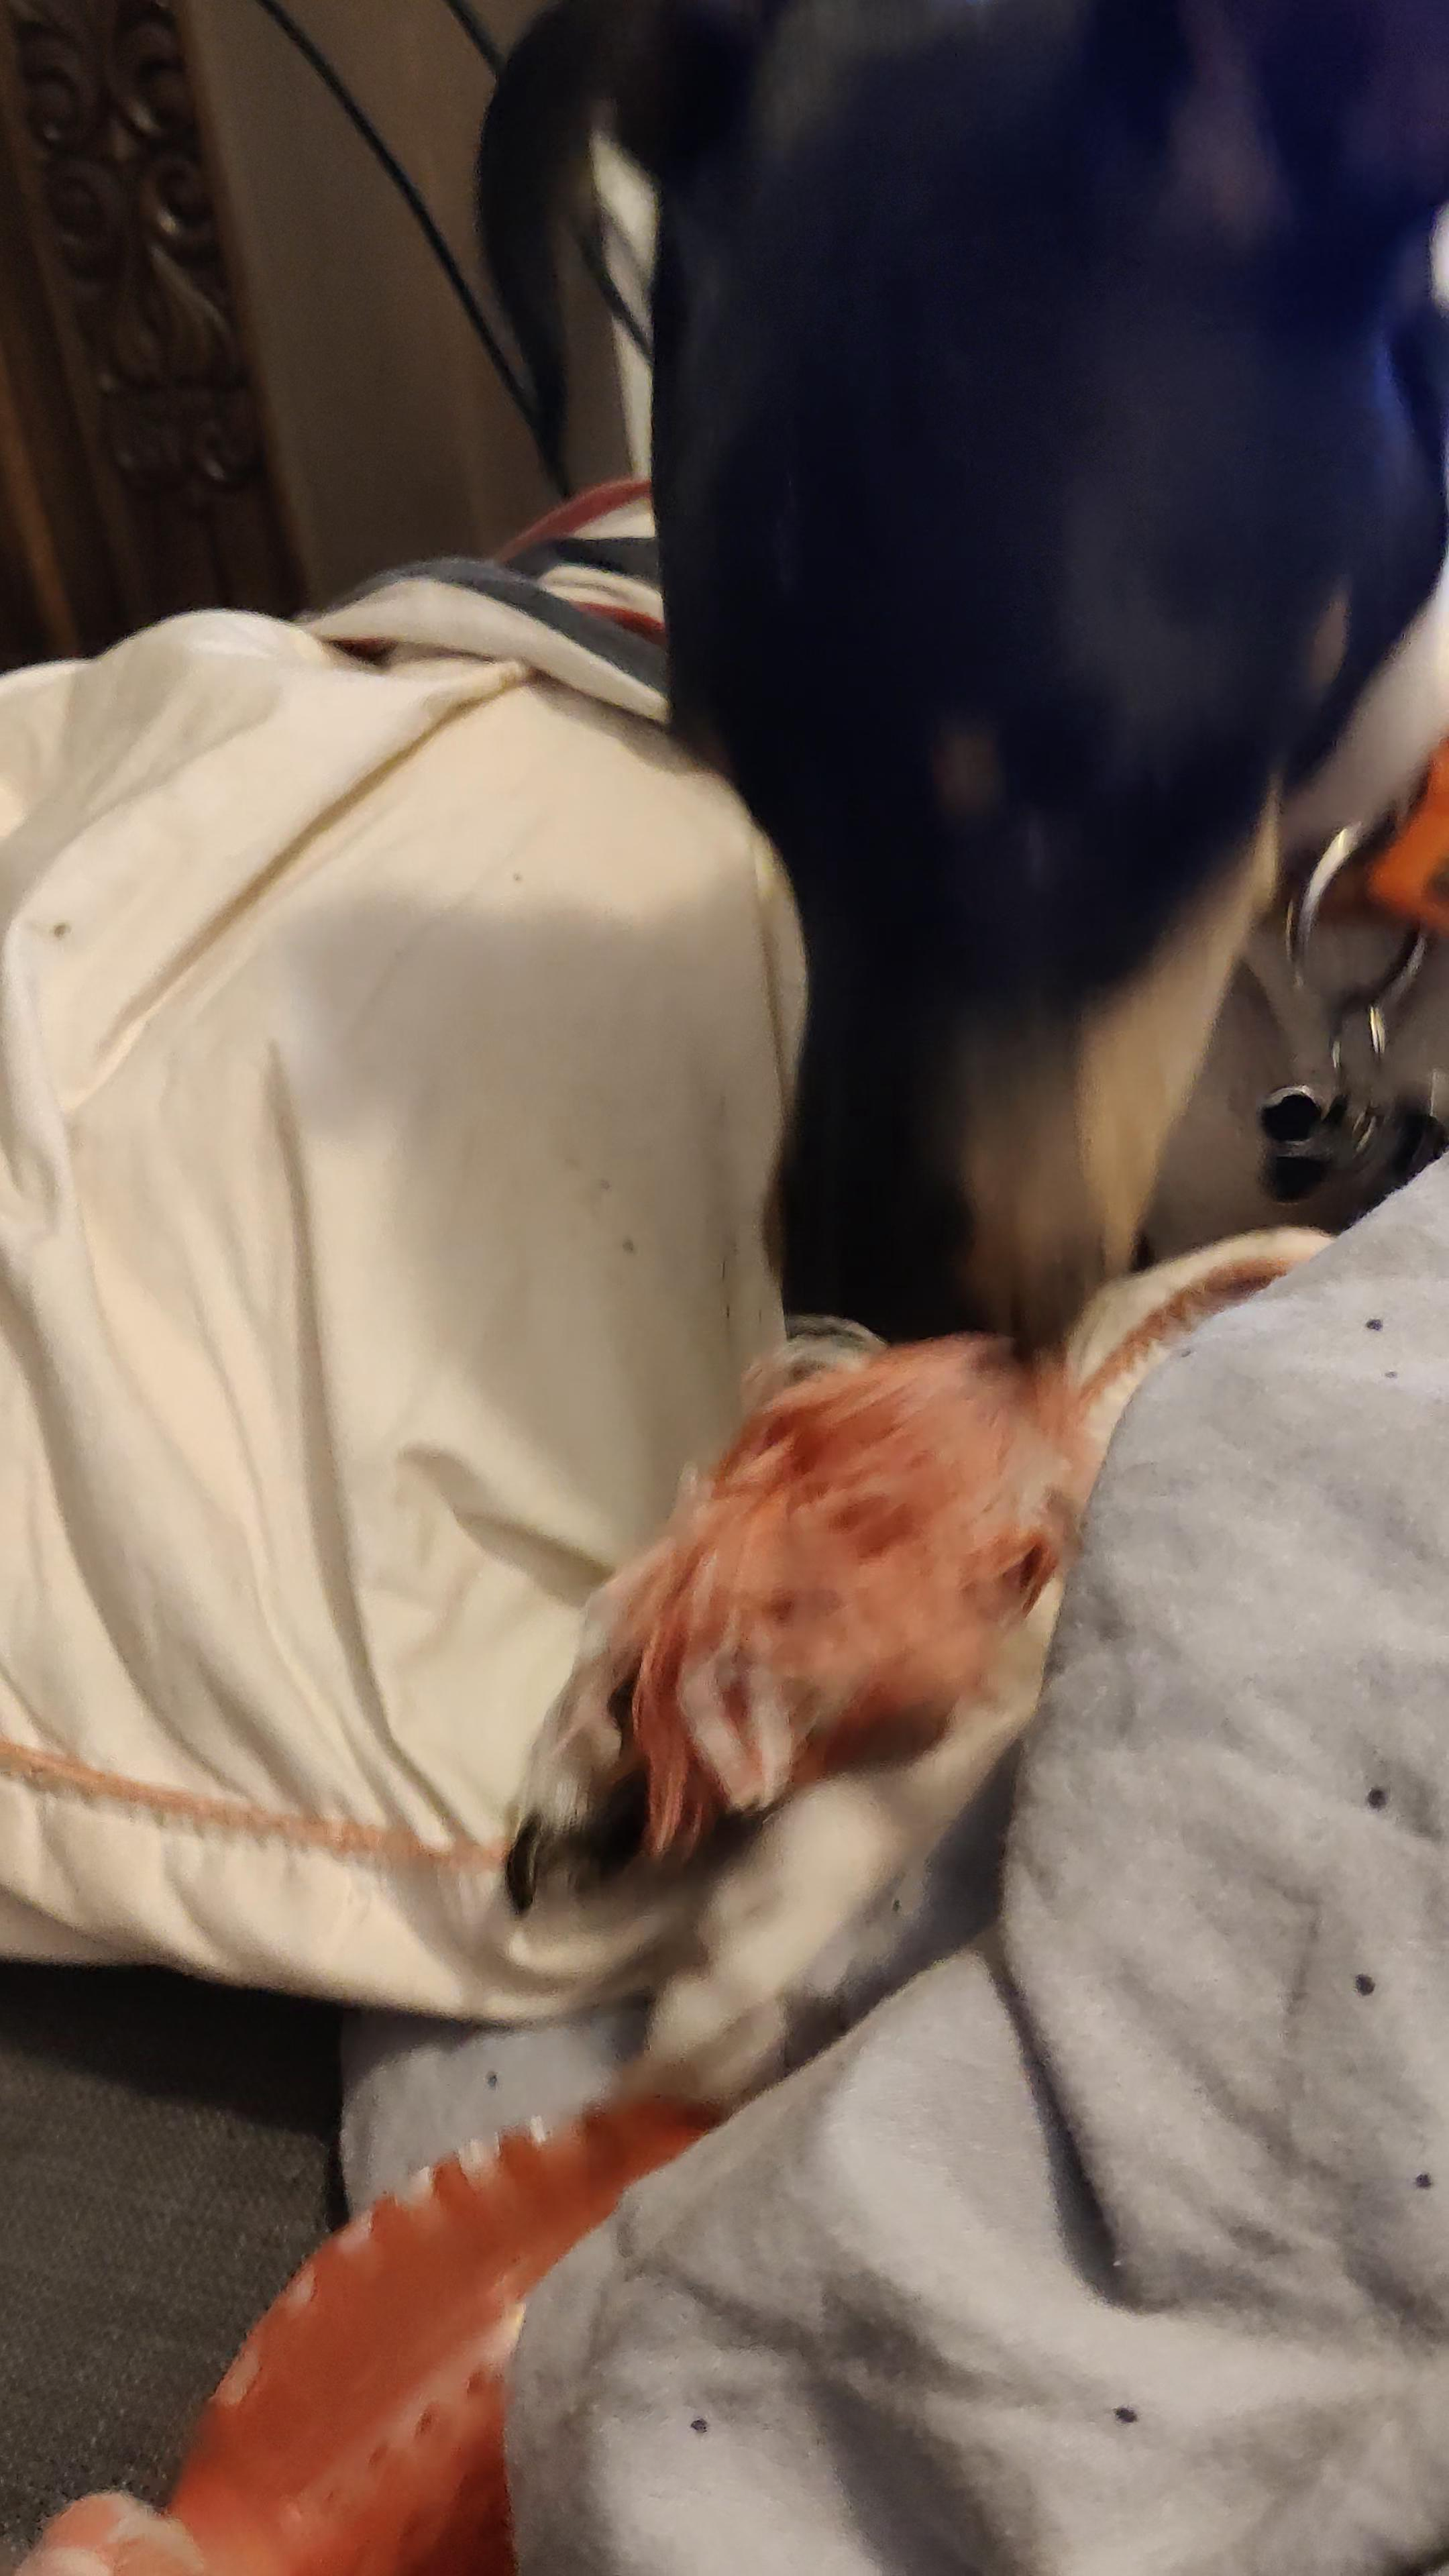Dog: (444, 0, 1449, 2135)
